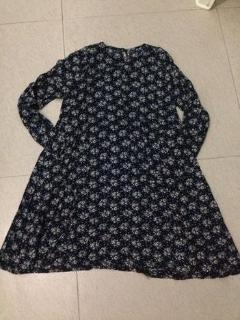long sleeve dress: (0, 41, 239, 280)
